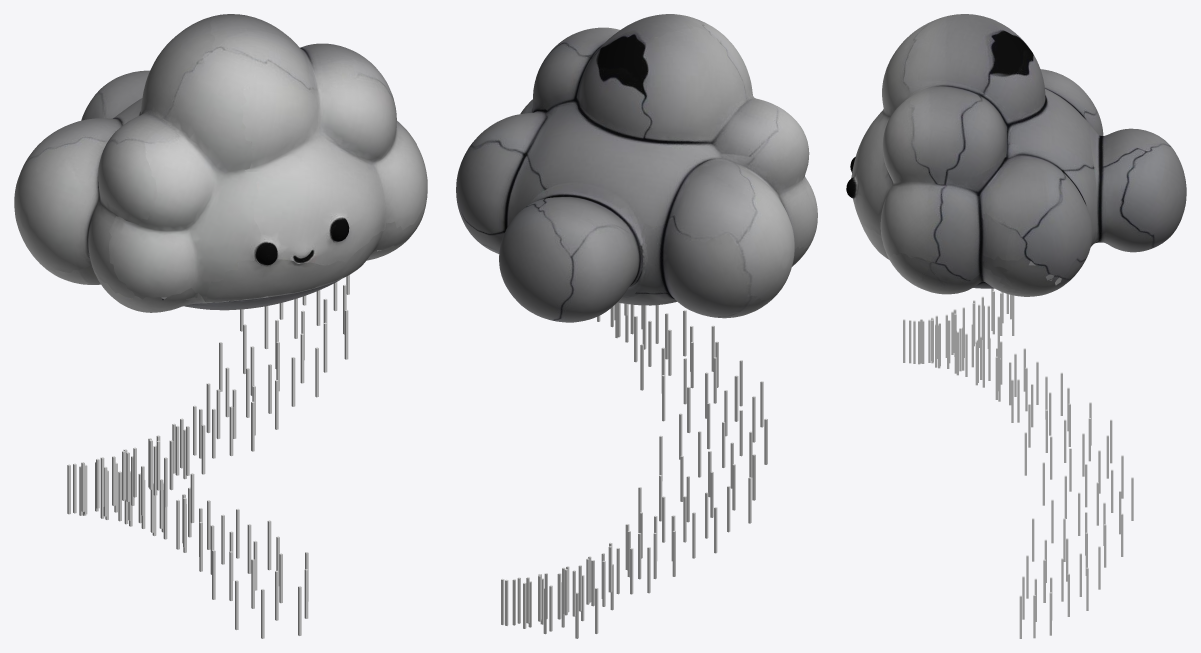
File: rain-cloud.glb
3 renders of one model, left to right at view 1: azimuth 30°, elevation 25°; view 2: azimuth 150°, elevation 25°; view 3: azimuth 270°, elevation 25°, orthographic. The views are drawn at different scales.
Visible parts, largest first — view 1: cloud; view 2: cloud; view 3: cloud.
Boxes of the visible parts, x1,y1,x2,y2 form: cloud: (14, 14, 427, 312); cloud: (456, 14, 817, 322); cloud: (846, 14, 1186, 296).
Bounding box in the file's own units: 8.98 × 16.32 × 8.73.
Materials: 1 (1 with a texture image).
